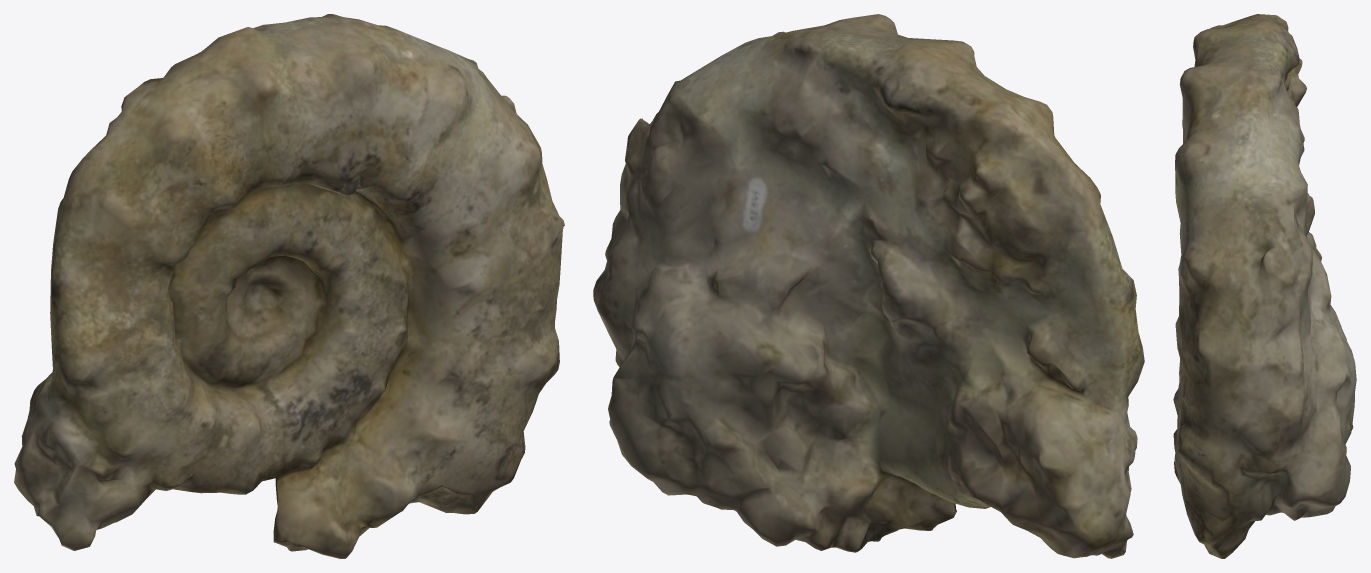
Rendered from ammonite.glb.
The picture shows the model from 3 angles, left to right: view 1: azimuth 30°, elevation 25°; view 2: azimuth 150°, elevation 25°; view 3: azimuth 270°, elevation 25°; orthographic projection. The views are drawn at different scales.
Bounding box in the file's own units: 345 × 328 × 121.
1 material, 1 textured.
